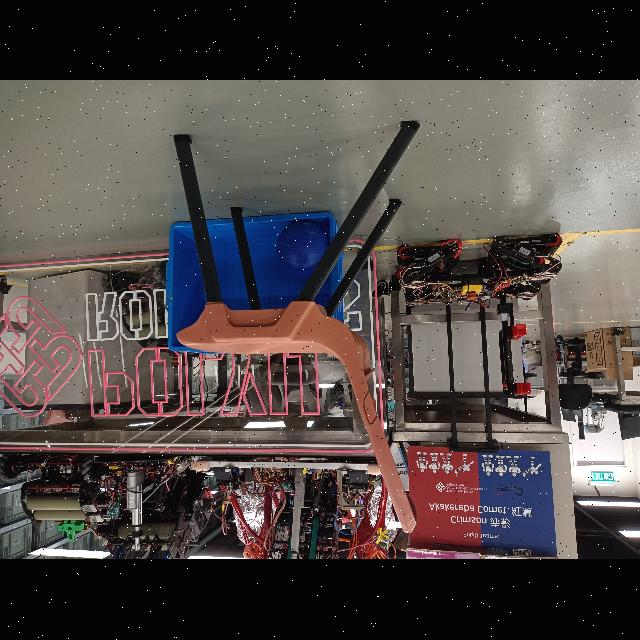B: (276, 220, 330, 276)
